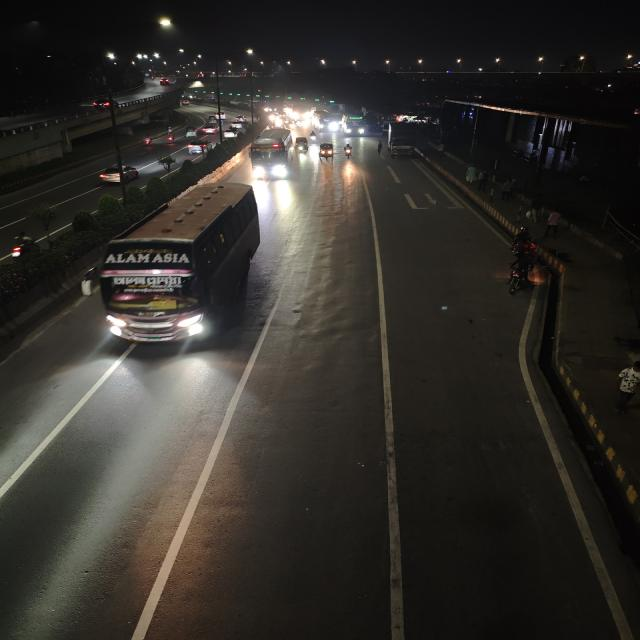bus: (94, 181, 267, 353), (249, 126, 294, 182), (341, 108, 369, 137), (312, 108, 342, 134), (288, 105, 311, 123)
car: (96, 162, 140, 187), (185, 138, 212, 155), (92, 98, 117, 110), (200, 123, 220, 136), (222, 129, 239, 141), (229, 119, 243, 130), (213, 111, 227, 121)
cng: (317, 140, 335, 161), (293, 135, 311, 155), (179, 96, 192, 108)
motorcycle: (501, 252, 544, 298), (507, 225, 543, 261), (6, 230, 43, 264), (341, 141, 355, 159), (141, 134, 156, 148), (183, 126, 196, 138)
pedestrian: (610, 358, 640, 418), (543, 209, 568, 239)
truck: (380, 121, 420, 161)
